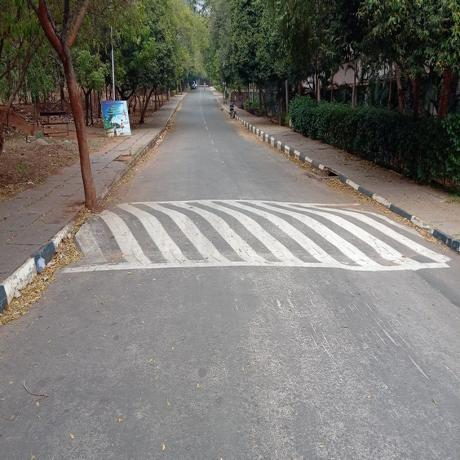Speed Bump: (57, 201, 446, 271)
